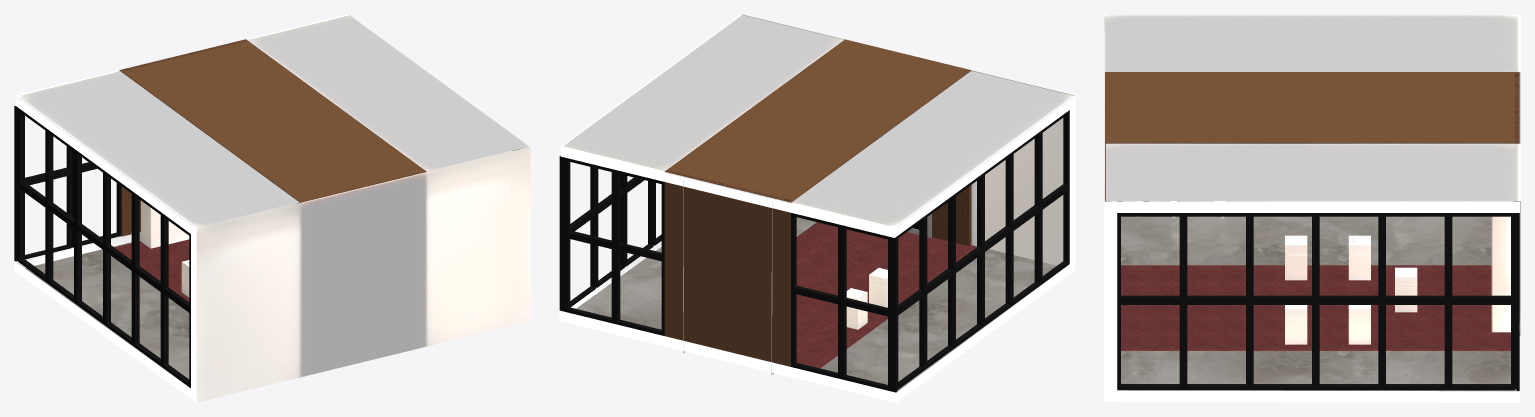
3 views of the same model, side by side, from view 1: azimuth 30°, elevation 25°; view 2: azimuth 150°, elevation 25°; view 3: azimuth 270°, elevation 25° (orthographic). The views are drawn at different scales.
Parts seen in each view (by area): view 1: Wall, Ceiling, WoodWall, WindowCill, Floor, Wall2, Rug, Cube; view 2: WoodWall, Ceiling, WindowCill, Wall2, Floor, Rug, Wall, Podium_Cube.027; view 3: Ceiling, WoodWall, Floor, Rug, WindowCill, Wall2, Podium_Cube.027, Cube, Plane.
Part boxes in pixels (x1,y1,x2,y2): Wall: (196, 146, 530, 402); Ceiling: (14, 14, 528, 227); WoodWall: (119, 39, 426, 236); WindowCill: (14, 106, 519, 387); Floor: (25, 242, 189, 378); Wall2: (14, 14, 530, 402); Rug: (114, 239, 189, 301); Cube: (139, 200, 189, 248); WoodWall: (664, 39, 971, 366); Ceiling: (561, 15, 1075, 228); WindowCill: (559, 110, 1069, 392); Wall2: (559, 14, 1075, 402); Floor: (576, 217, 1056, 391); Rug: (796, 222, 976, 368); Wall: (741, 14, 1074, 265); Podium_Cube.027: (846, 268, 887, 329); Ceiling: (1105, 14, 1520, 200); WoodWall: (1105, 72, 1519, 201); Floor: (1121, 216, 1516, 390); Rug: (1121, 265, 1510, 350); WindowCill: (1117, 201, 1519, 390); Wall2: (1104, 14, 1519, 402); Podium_Cube.027: (1285, 235, 1417, 344); Cube: (1491, 201, 1520, 336); Plane: (1123, 201, 1512, 218).
Size of the model in its own units: 884 by 445 by 824.
Materials: 14 (3 with a texture image).
